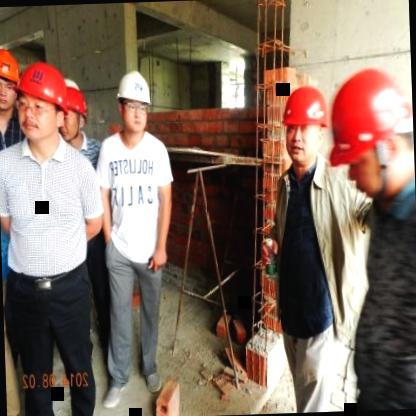helmet: (325, 65, 416, 210), (279, 81, 329, 176), (12, 61, 70, 138), (115, 70, 154, 140), (53, 86, 88, 144), (0, 45, 23, 114)
